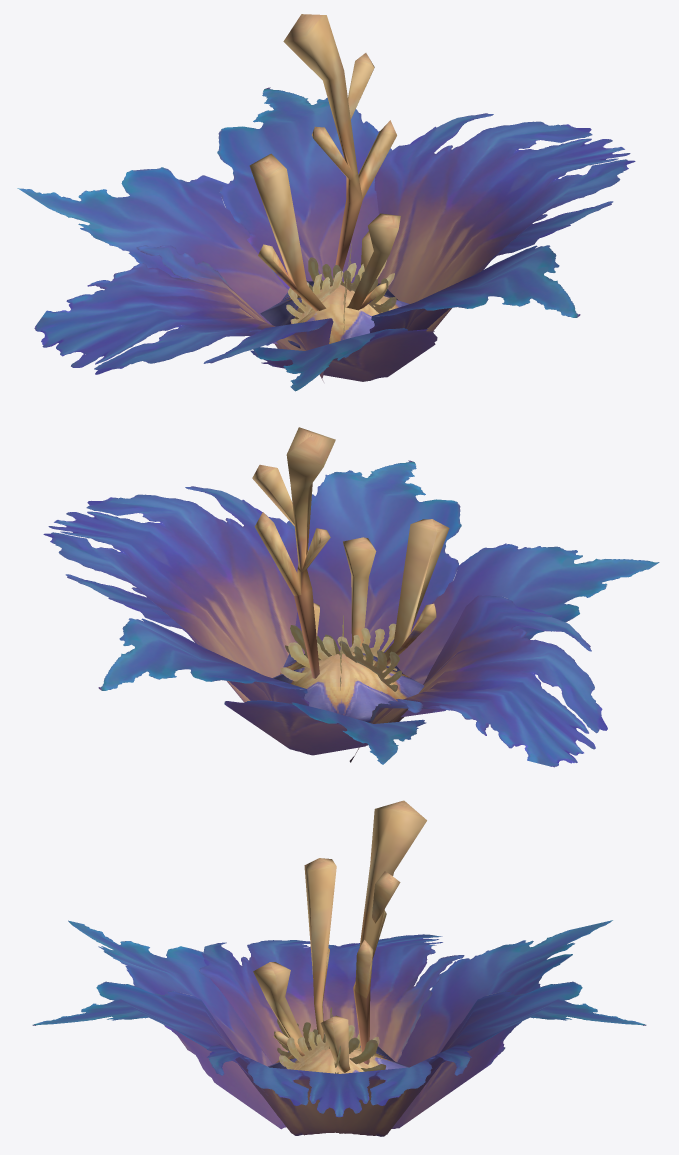
The model's file is Map_09_flower02.FBX.
3 views of the same model, one above another, from view 1: azimuth 30°, elevation 25°; view 2: azimuth 150°, elevation 25°; view 3: azimuth 270°, elevation 25° (orthographic).
Visible parts, largest first — view 1: Map_09_flower02; view 2: Map_09_flower02; view 3: Map_09_flower02.
Boxes of the visible parts, x1,y1,x2,y2 form: Map_09_flower02: [17, 14, 635, 391]; Map_09_flower02: [43, 427, 659, 767]; Map_09_flower02: [32, 800, 646, 1136].
Bounding box in the file's own units: 445 × 428 × 239.
Materials: 1 (1 with a texture image).
